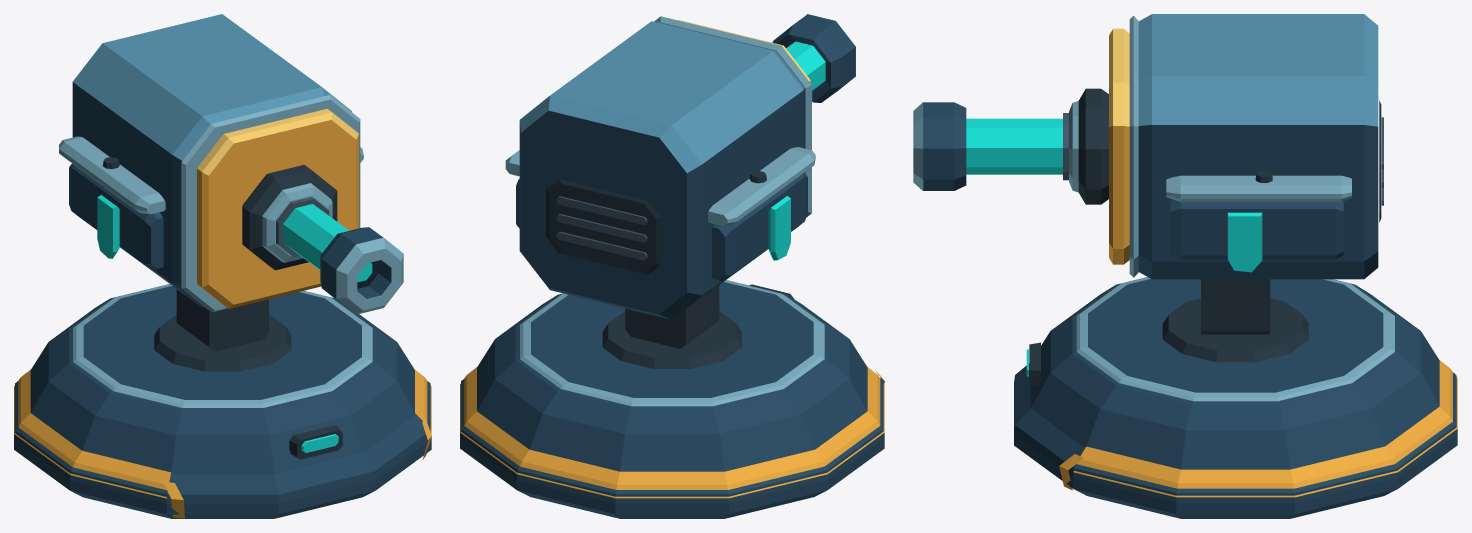
The model's file is LaserTurretV2.obj.
3 views of the same model, side by side, from view 1: azimuth 30°, elevation 25°; view 2: azimuth 150°, elevation 25°; view 3: azimuth 270°, elevation 25° (orthographic). The views are drawn at different scales.
Parts seen in each view (by area): view 1: BaseShoulder, GoldFaceBody, BaseFoot, ArmorTop, ArmorBevel, ArmorBody, FaceGasket, GoldBaseBand, BaseTopBevel, Bearing, SideArmorL, Pedestal (+11 smaller); view 2: BaseShoulder, ArmorBody, ArmorTop, BaseFoot, GoldBaseBand, ArmorBevel, RearInset, BaseTopBevel, Bearing, SideArmorL, Muzzle, RailL (+7 smaller); view 3: BaseShoulder, ArmorBody, BaseFoot, ArmorBevel, ArmorTop, GoldBaseBand, SideArmorR, EnergyRod, Bearing, BaseTopBevel, RailR, Pedestal (+8 smaller).
Part boxes in pixels (bbox=[...]): BaseShoulder: bbox=[30, 284, 415, 474]; GoldFaceBody: bbox=[197, 120, 358, 308]; BaseFoot: bbox=[14, 381, 431, 518]; ArmorTop: bbox=[103, 14, 321, 115]; ArmorBevel: bbox=[72, 43, 351, 160]; ArmorBody: bbox=[72, 82, 204, 307]; FaceGasket: bbox=[181, 95, 360, 312]; GoldBaseBand: bbox=[14, 369, 431, 498]; BaseTopBevel: bbox=[73, 284, 372, 407]; Bearing: bbox=[154, 314, 291, 371]; SideArmorL: bbox=[69, 163, 163, 270]; Pedestal: bbox=[176, 289, 268, 351]; BaseShoulder: bbox=[477, 280, 867, 471]; ArmorBody: bbox=[519, 88, 804, 319]; ArmorTop: bbox=[550, 21, 772, 124]; BaseFoot: bbox=[460, 379, 884, 518]; GoldBaseBand: bbox=[460, 367, 884, 498]; ArmorBevel: bbox=[519, 21, 804, 173]; RearInset: bbox=[546, 179, 660, 275]; BaseTopBevel: bbox=[520, 280, 824, 406]; Bearing: bbox=[602, 311, 741, 368]; SideArmorL: bbox=[712, 173, 807, 281]; Muzzle: bbox=[772, 14, 855, 102]; RailL: bbox=[708, 147, 815, 226]; BaseShoulder: bbox=[1030, 277, 1439, 469]; ArmorBody: bbox=[1138, 125, 1378, 279]; BaseFoot: bbox=[1014, 363, 1457, 518]; ArmorBevel: bbox=[1138, 14, 1378, 126]; ArmorTop: bbox=[1152, 14, 1364, 75]; GoldBaseBand: bbox=[1073, 360, 1457, 497]; SideArmorR: bbox=[1170, 199, 1343, 259]; EnergyRod: bbox=[966, 118, 1062, 174]; Bearing: bbox=[1162, 298, 1308, 362]; BaseTopBevel: bbox=[1076, 277, 1394, 401]; RailR: bbox=[1166, 175, 1351, 201]; Pedestal: bbox=[1201, 279, 1270, 334].
Bounding box in the file's own units: 2.18 × 2.1 × 2.67.
